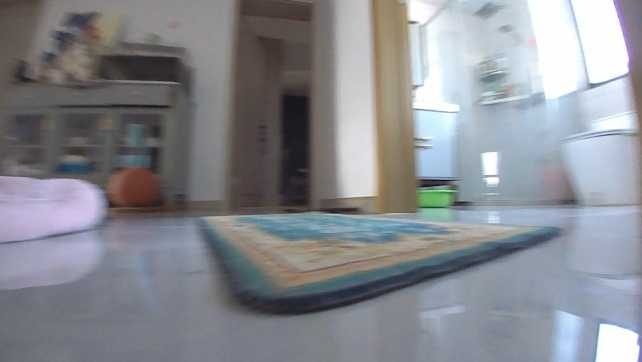blanket: (196, 209, 565, 319)
toilet: (555, 73, 641, 209)
